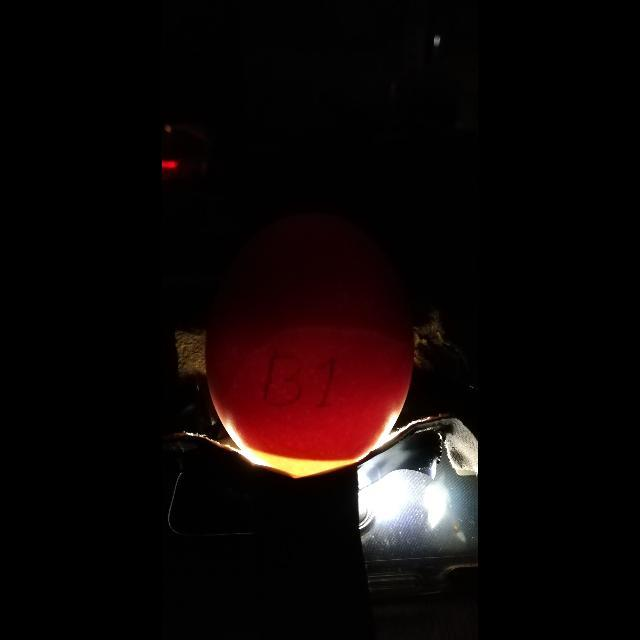Fertile: (210, 236, 416, 477)
